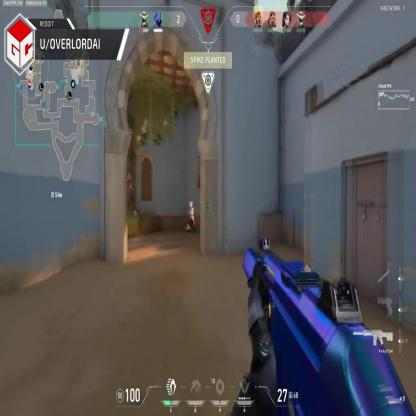enemy: (186, 199, 194, 235)
enemy_head: (189, 201, 193, 208)
